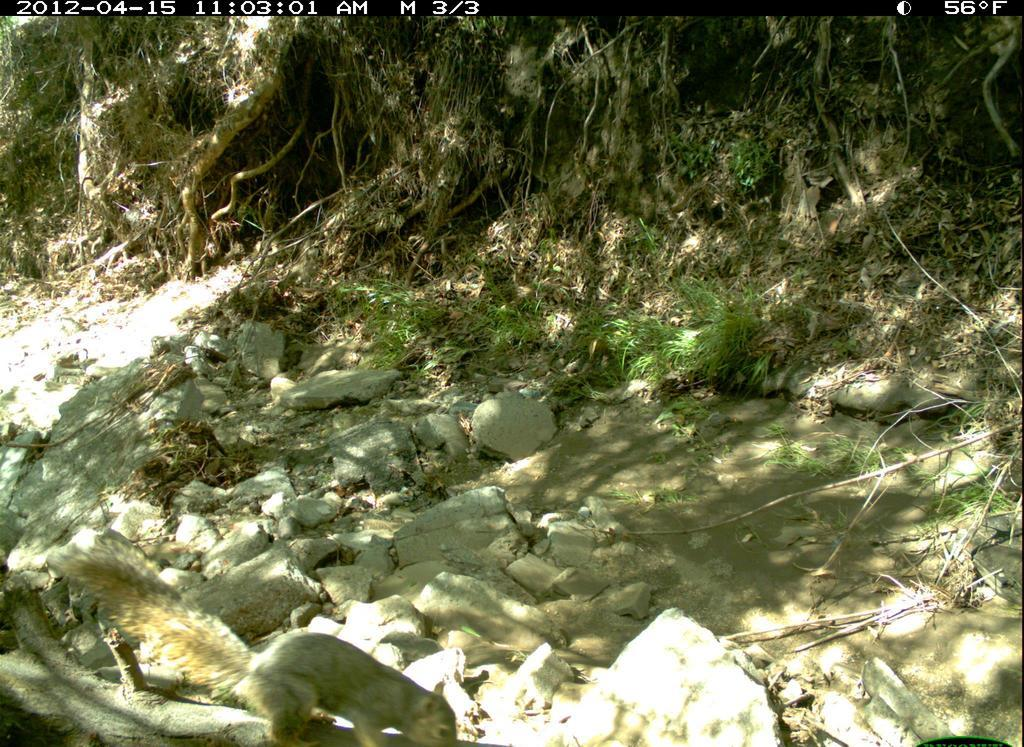squirrel: (52, 530, 484, 747)
